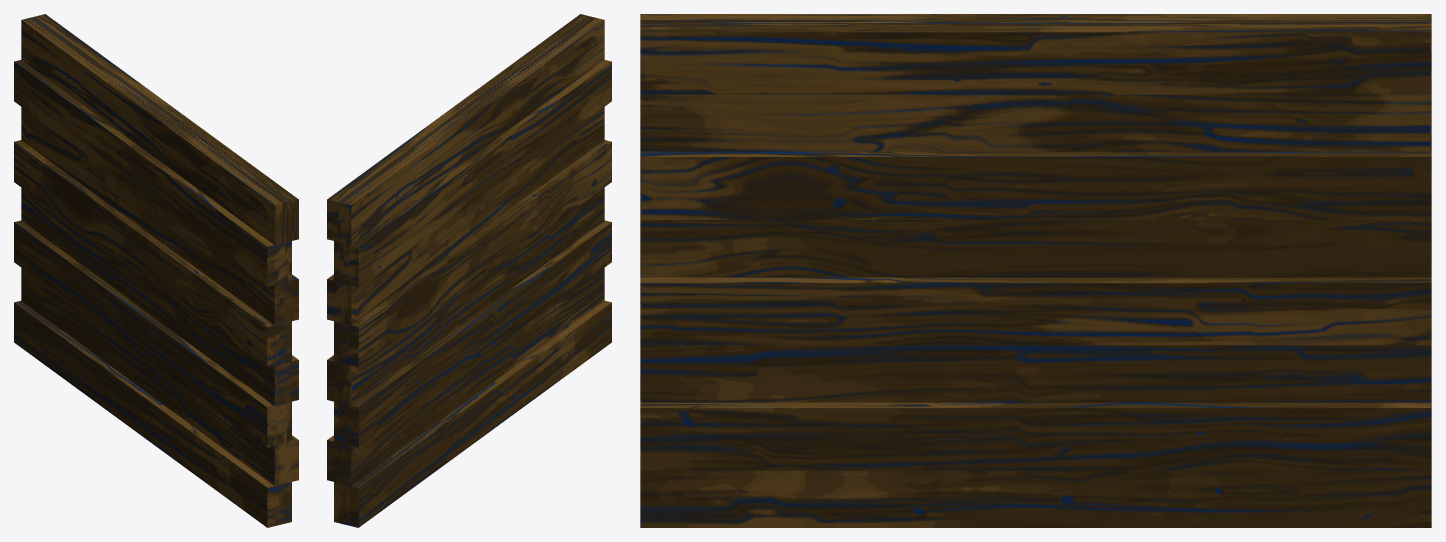
The model's file is wallTxFullHP.fbx.
3 views of the same model, side by side, from view 1: azimuth 30°, elevation 25°; view 2: azimuth 150°, elevation 25°; view 3: azimuth 270°, elevation 25° (orthographic). The views are drawn at different scales.
Parts seen in each view (by area): view 1: wall 1; view 2: wall 1; view 3: wall 1.
Boxes of the visible parts, <box> form: wall 1: <box>14,14,298,527</box>; wall 1: <box>327,14,611,527</box>; wall 1: <box>640,14,1431,527</box>.
Size of the model in its own units: 20.48 by 200 by 286.
Materials: 1 (1 with a texture image).
